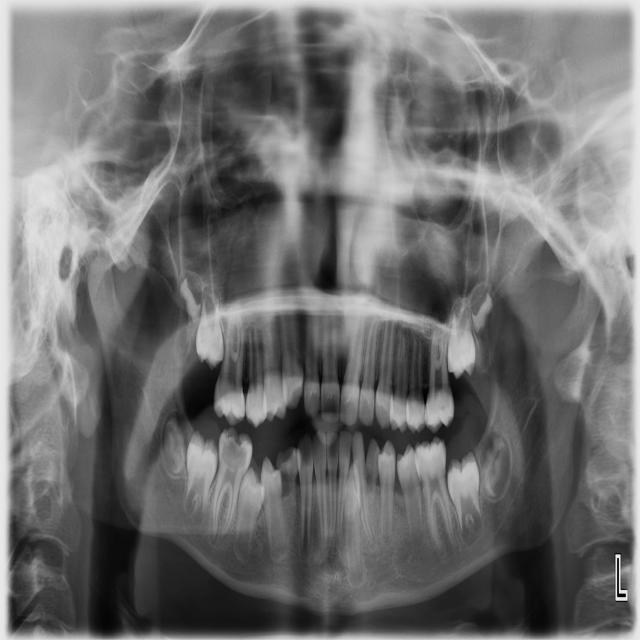mandibula: (88, 226, 611, 612)
